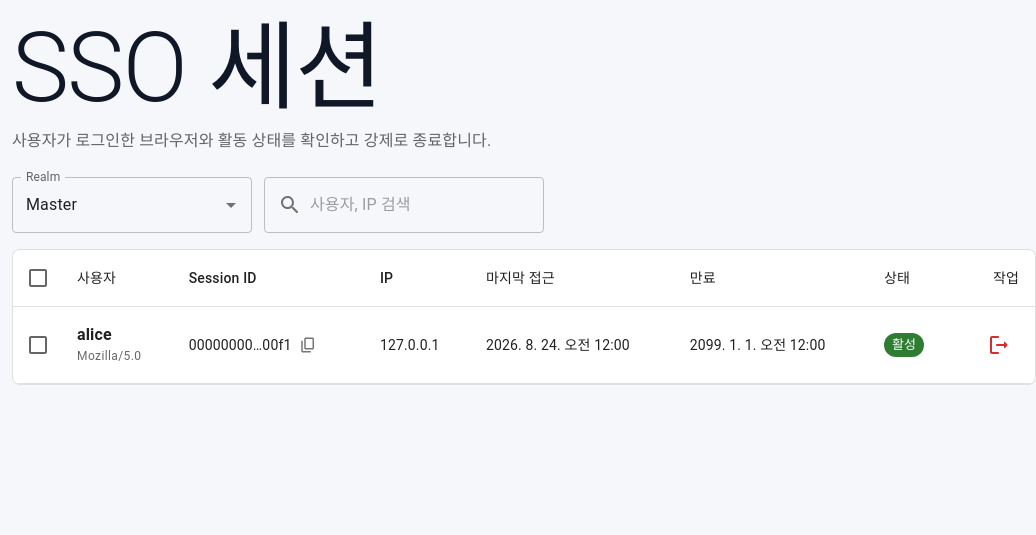
Test: a search that matches nothing says so rather than that there are none
Expected: the text "alice" is shown, [77,325,112,344]
Type "nobody" into the field named "세션 검색" at (427, 205), box [310,177,544,233]
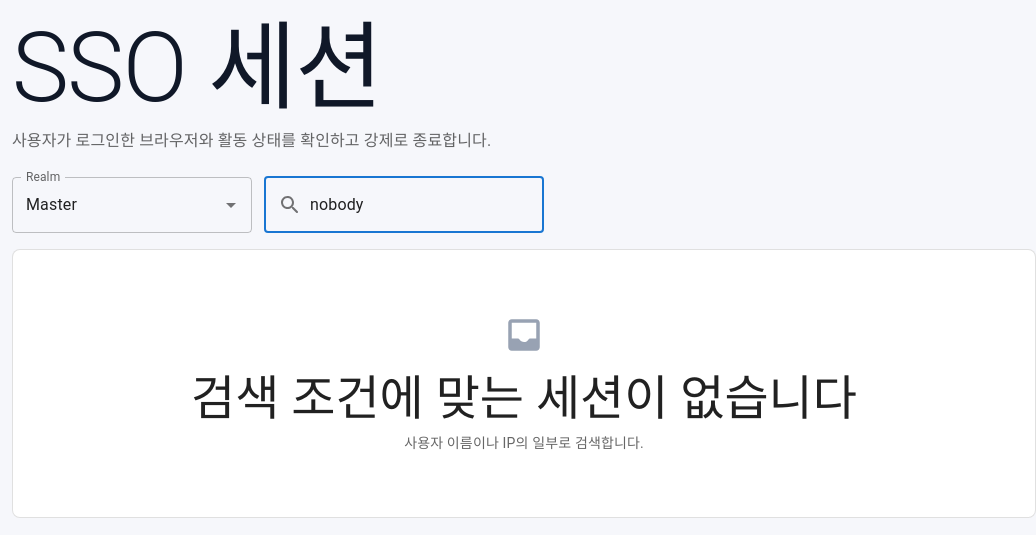
Result: the heading "검색 조건에 맞는 세션이 없습니다" is shown at [191,370,857,427]
